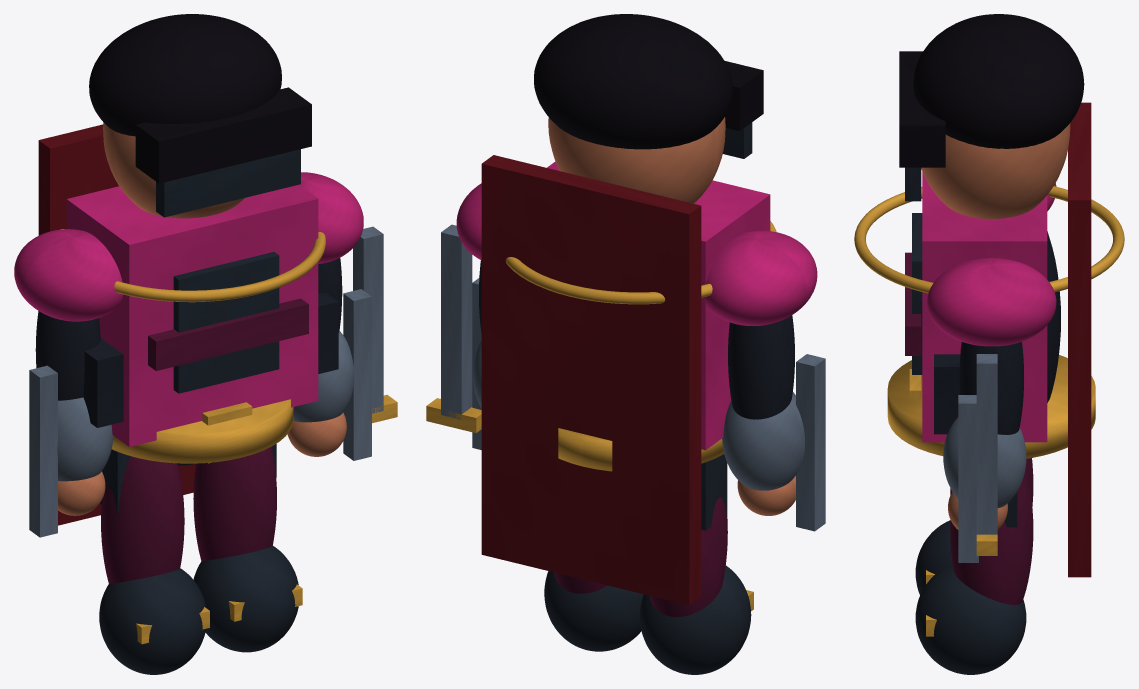
File: Specialization.glb
3 views of the same model, side by side, from view 1: azimuth 30°, elevation 25°; view 2: azimuth 150°, elevation 25°; view 3: azimuth 270°, elevation 25° (orthographic). The views are drawn at different scales.
Visible parts, largest first — view 1: ChestPlate, Hair, HairFringe, Leg, Boot, Boot.001, ChestInset, Leg.001, Shoulder, Cape, WaistGuard, TacticalHarness (+17 smaller); view 2: Cape, Hair, Shoulder, Head, ChestPlate, Boot, Arm, Dagger, Gauntlet, Boot.001, DualDagger, Leg (+10 smaller); view 3: Hair, ChestPlate, Cape, Shoulder.001, Head, Boot.001, Leg.001, WaistGuard, Dagger, HairFringe, ShoulderCrest, Arm.001 (+10 smaller).
Part boxes in pixels (x1,y1,x2,y2): ChestPlate: (66, 184, 318, 446); Hair: (89, 14, 281, 136); HairFringe: (135, 87, 311, 183); Leg: (101, 456, 184, 583); Boot: (99, 568, 205, 674); Boot.001: (193, 546, 298, 652); ChestInset: (173, 252, 279, 393); Leg.001: (193, 447, 276, 561); Shoulder: (14, 229, 122, 321); Cape: (38, 124, 195, 525); WaistGuard: (111, 399, 293, 463); TacticalHarness: (148, 298, 308, 370); Cape: (481, 155, 701, 605); Hair: (534, 14, 732, 149); Shoulder: (703, 230, 817, 325); Head: (548, 117, 725, 203); ChestPlate: (547, 161, 770, 450); Boot: (639, 565, 751, 674); Arm: (728, 315, 794, 419); Dagger: (441, 224, 472, 419); Gauntlet: (722, 392, 804, 490); Boot.001: (544, 571, 643, 651); DualDagger: (796, 354, 825, 531); Leg: (649, 497, 727, 616); Hair: (913, 14, 1084, 148); ChestPlate: (922, 172, 1047, 442); Cape: (1068, 102, 1091, 577); Shoulder.001: (927, 258, 1056, 346); Head: (921, 123, 1070, 219); Boot.001: (915, 564, 1026, 674); Leg.001: (950, 469, 1033, 604); WaistGuard: (887, 355, 1095, 458); Dagger: (976, 354, 997, 534); HairFringe: (899, 51, 945, 167); ShoulderCrest: (854, 186, 1124, 293); Arm.001: (959, 341, 1024, 434).
Size of the model in its own units: 1.82 by 2.96 by 1.17.
11 materials, 9 textured.
